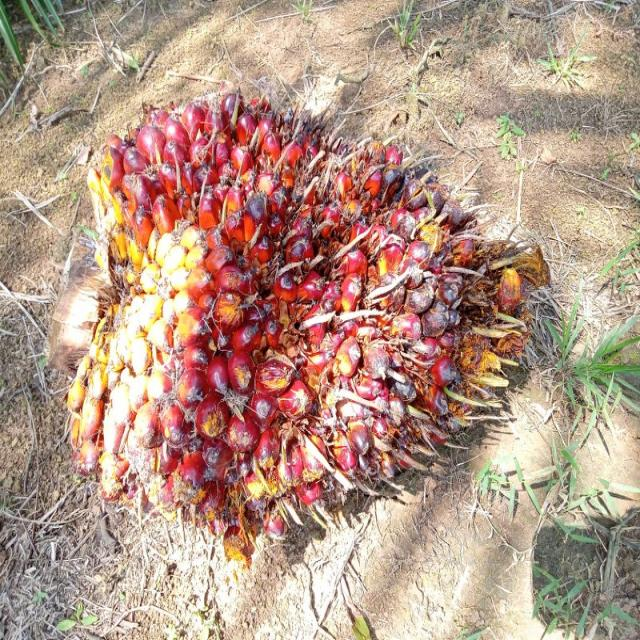fraksi 3: (48, 84, 570, 569)
